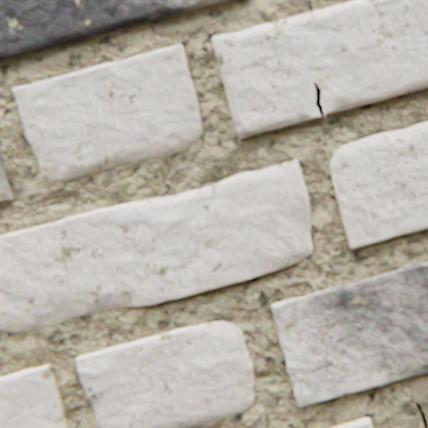brick: (0, 160, 312, 331), (212, 0, 427, 138), (14, 45, 202, 181), (272, 261, 427, 405), (77, 320, 254, 427), (0, 0, 232, 61), (330, 122, 427, 248), (0, 364, 69, 427), (0, 146, 13, 202), (329, 416, 372, 427)
crack: (414, 402, 427, 427), (314, 84, 323, 117)
